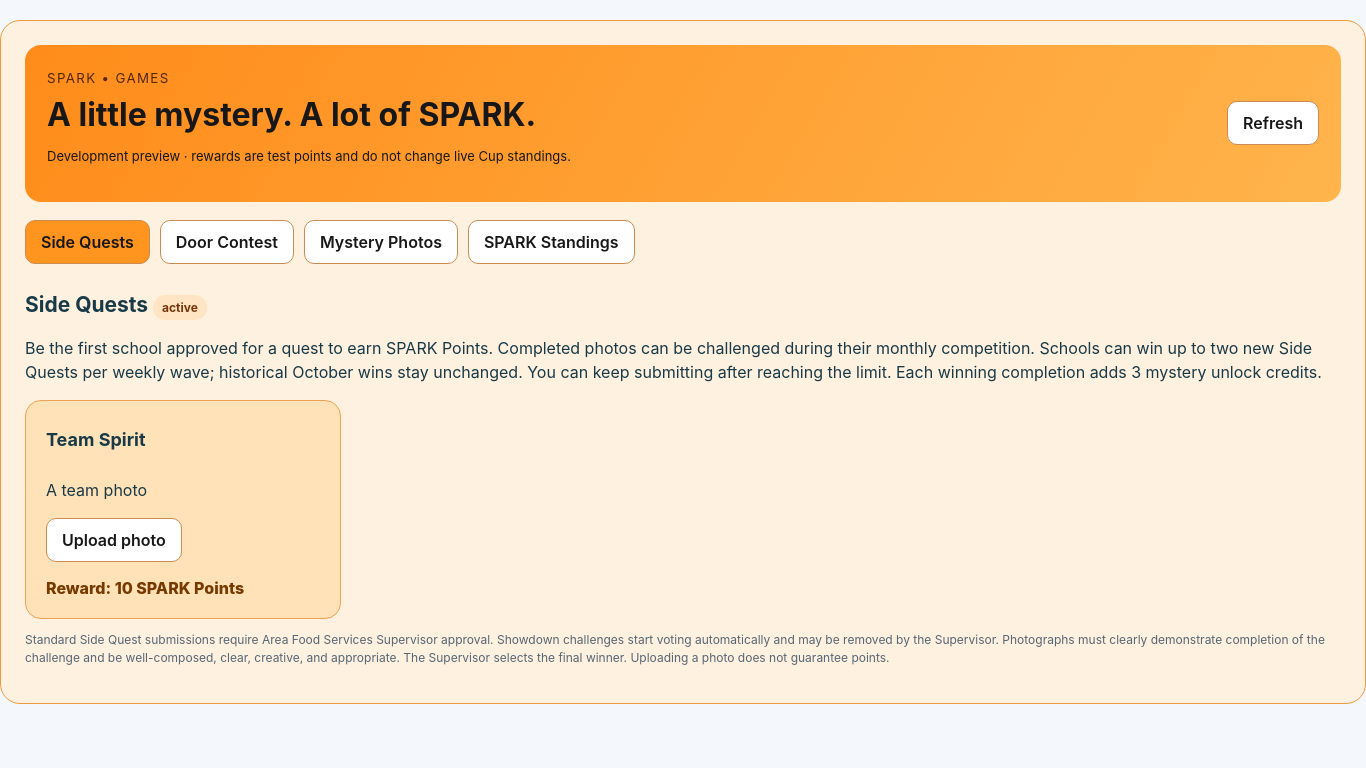
submissions and voting overlap, theme reaches gallery and trading cards are removed
Click the button "Door Contest" at (227,242), box [160,220,294,264]
(page scrolled)
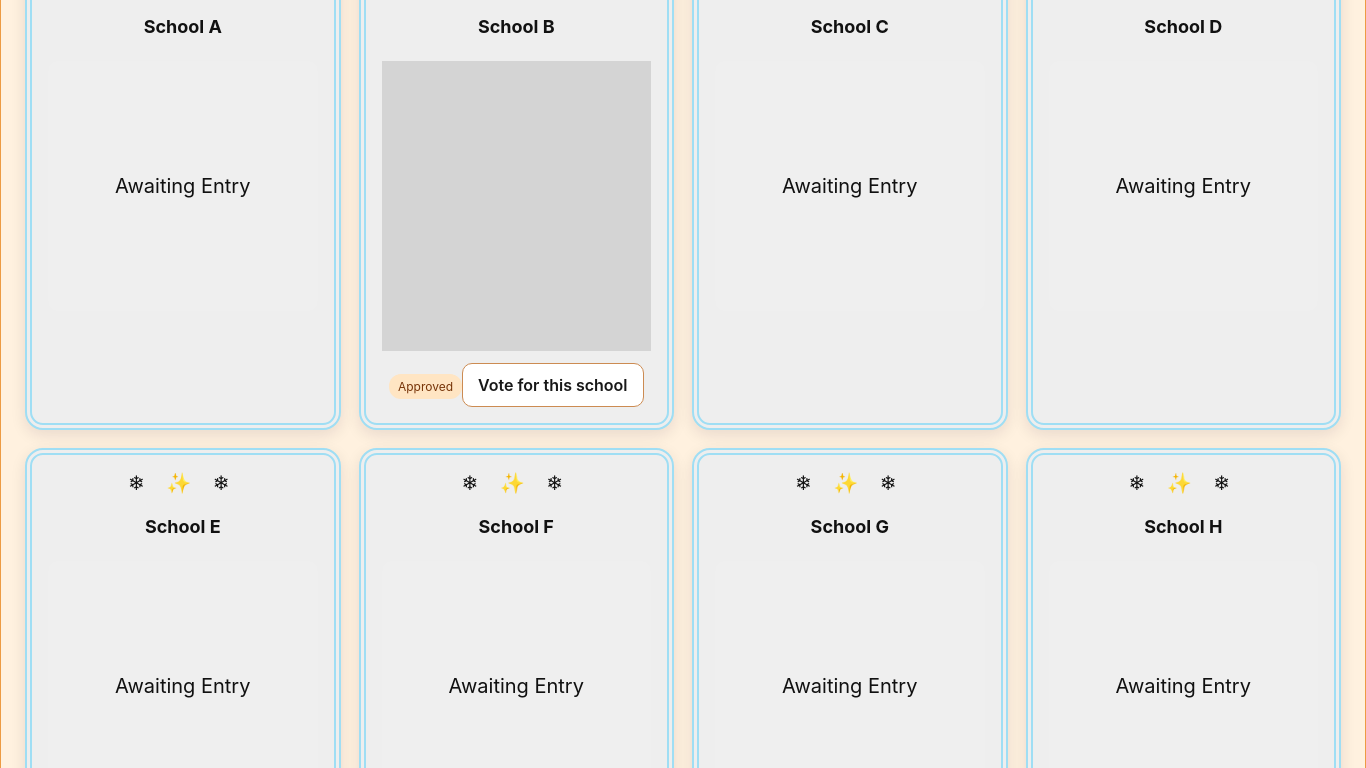
Expected: the button "Vote for this school" is shown, [462,362,644,406]
